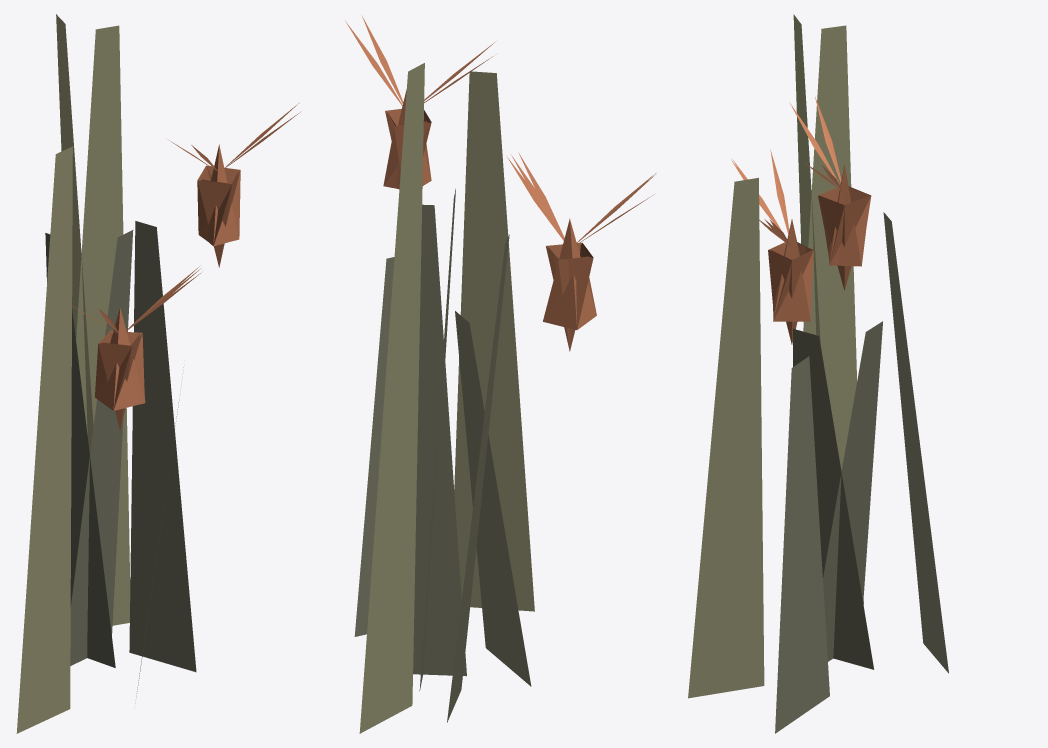
File: nong.su@fruiting__winter.glb
3 renders of one model, left to right at view 1: azimuth 30°, elevation 25°; view 2: azimuth 150°, elevation 25°; view 3: azimuth 270°, elevation 25°, orthographic. The views are drawn at different scales.
Parts seen in each view (by area): view 1: nong.su@fruiting__winter; view 2: nong.su@fruiting__winter; view 3: nong.su@fruiting__winter.
Boxes of the visible parts, left/top/right/bottom form: nong.su@fruiting__winter: left=16, top=14, right=300, bottom=733; nong.su@fruiting__winter: left=345, top=16, right=655, bottom=733; nong.su@fruiting__winter: left=688, top=14, right=948, bottom=733.
Size of the model in its own units: 0.485 by 0.9887 by 0.4909.
